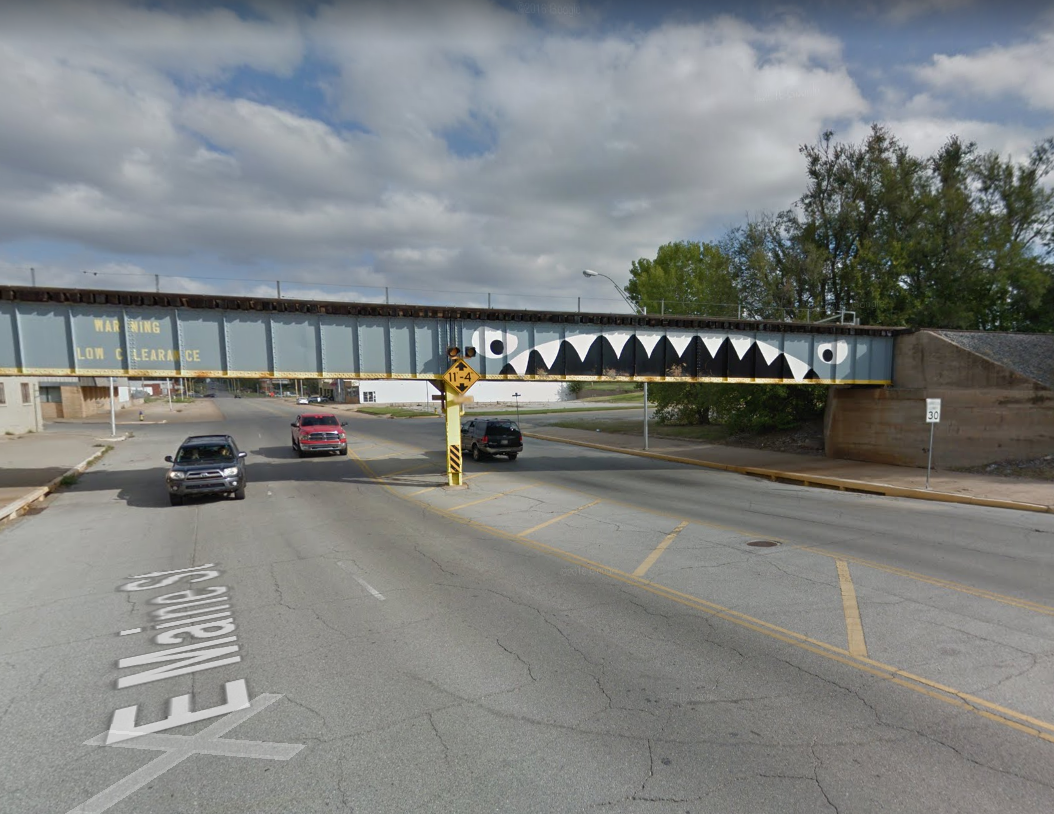bridge: (5, 281, 905, 388)
